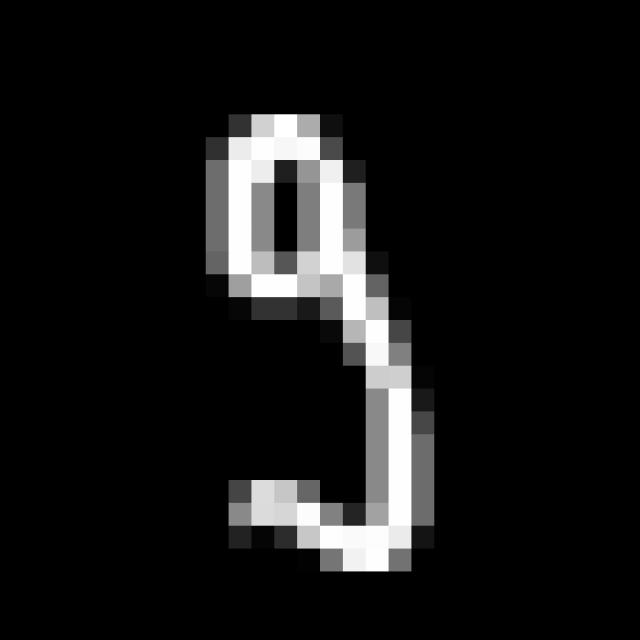nine -9-: (203, 105, 444, 574)
